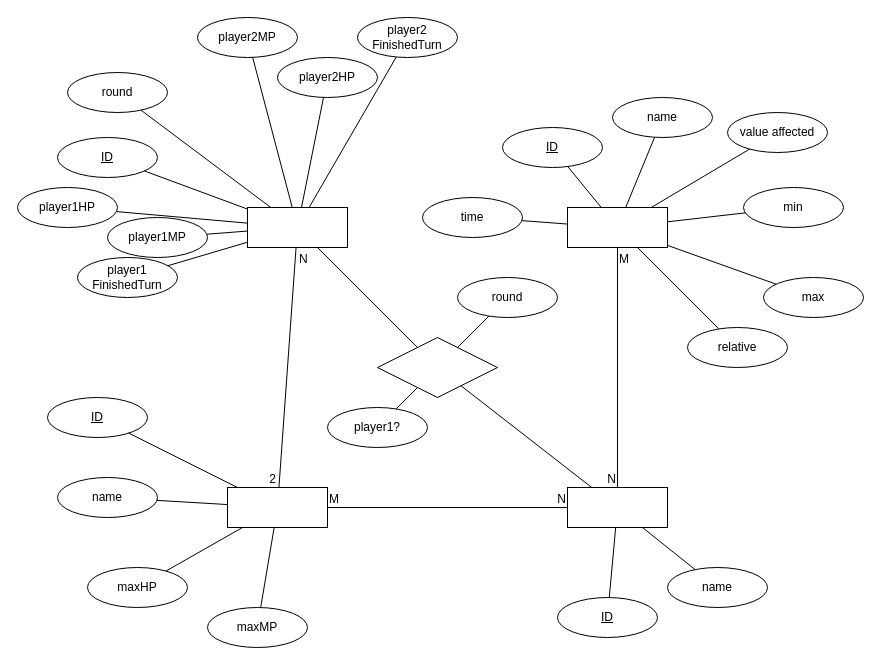
Some shapes in this 881 by 665 pixel diagram are drawn without their labels. Here are the shapes that lost their labels. From the top down, the centre of each, then its label:
At (x=297, y=227): "Game".
At (x=617, y=227): "Effects".
At (x=437, y=367): "uses".
At (x=277, y=507): "player".
At (x=617, y=507): "Ability".
